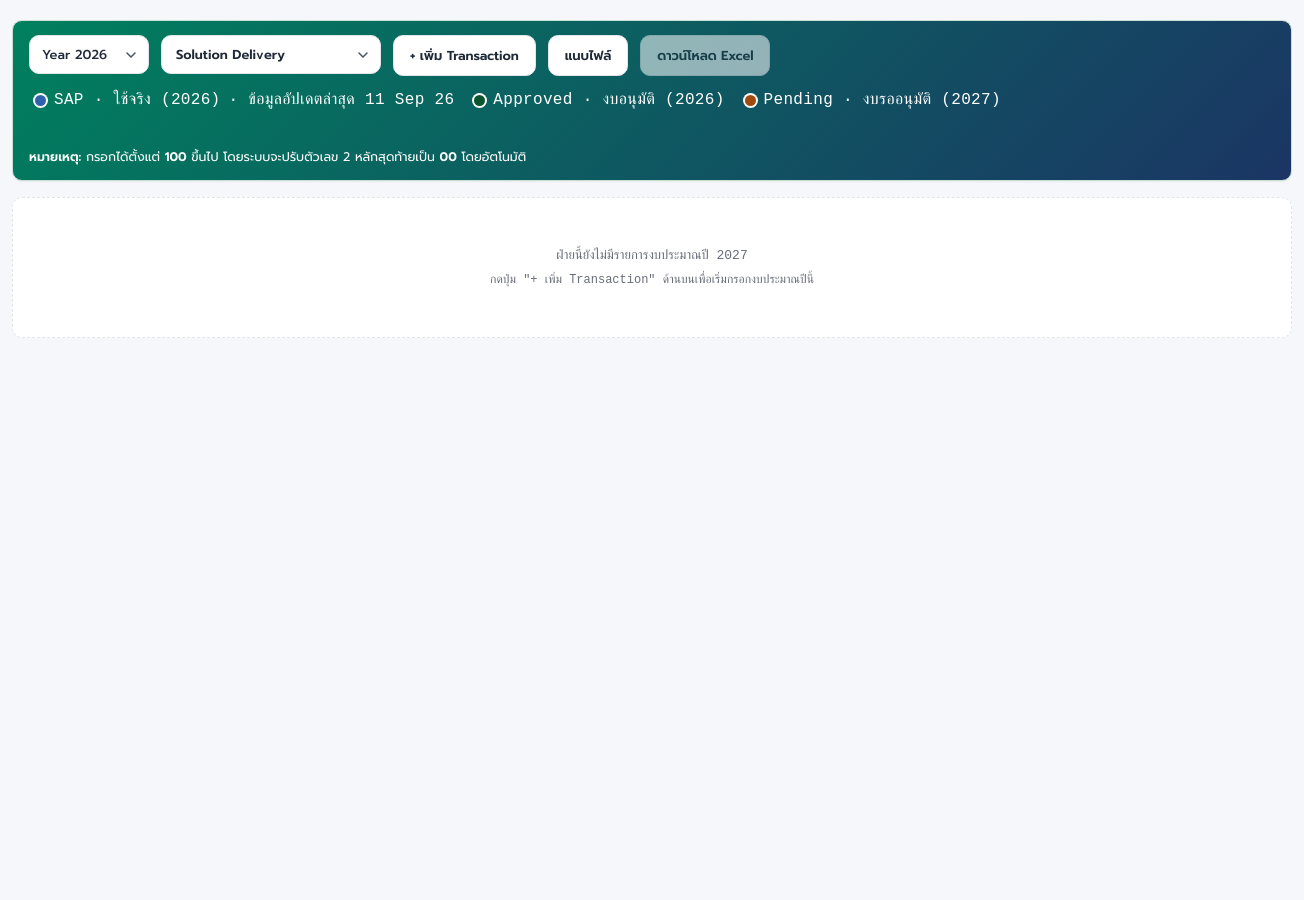
it: BudgetGrid › adds a new transaction end-to-end through the form
Expected: the text "ฝ่ายนี้ยังไม่มีรายการงบประมาณปี 2027" is shown, [556,248,748,262]
Click the button "+ เพิ่ม Transaction".
click(464, 56)  # box [393,35,536,76]
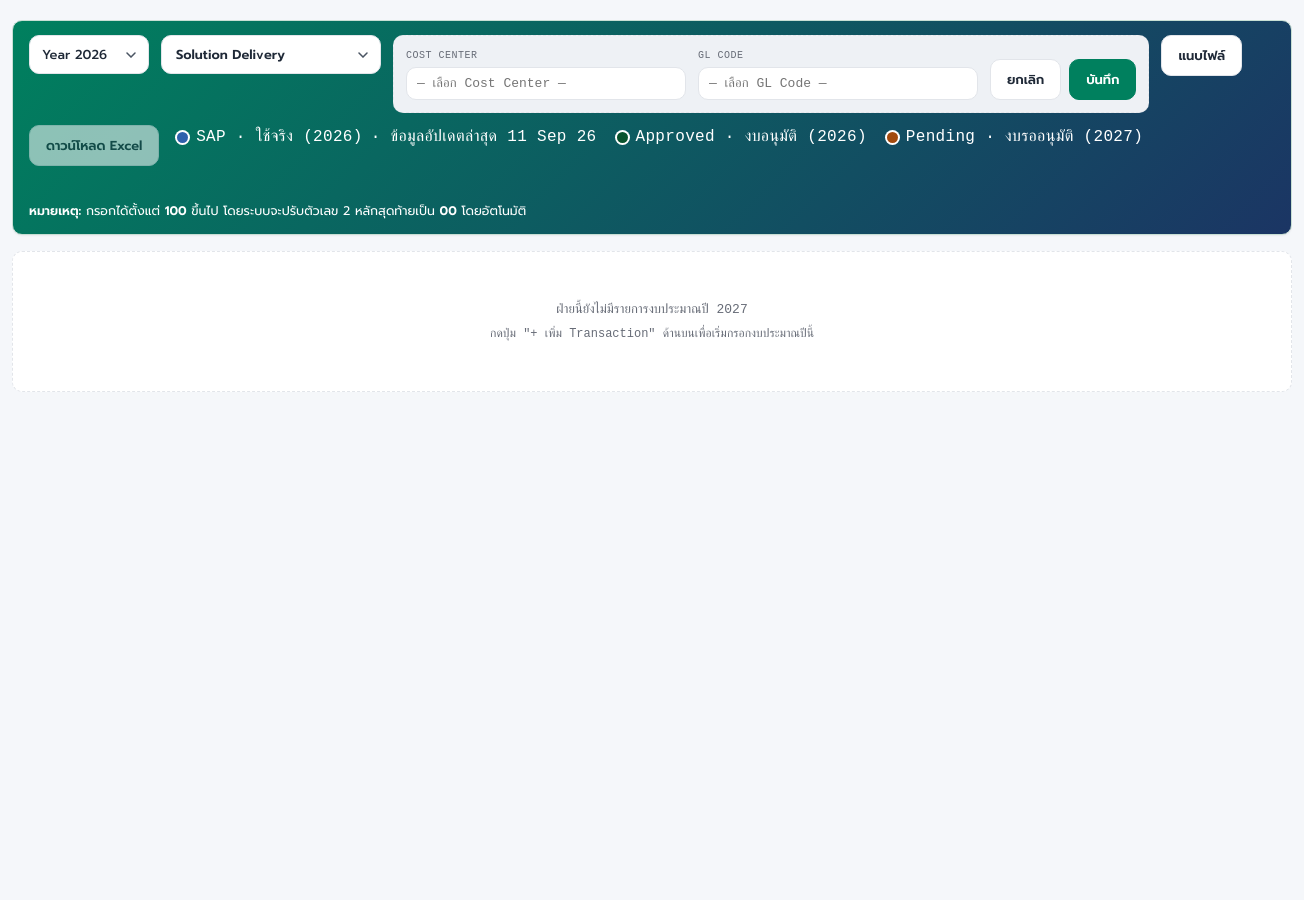
Focus the field labelled "Cost Center" at (546, 84), box [406,67,686,100]
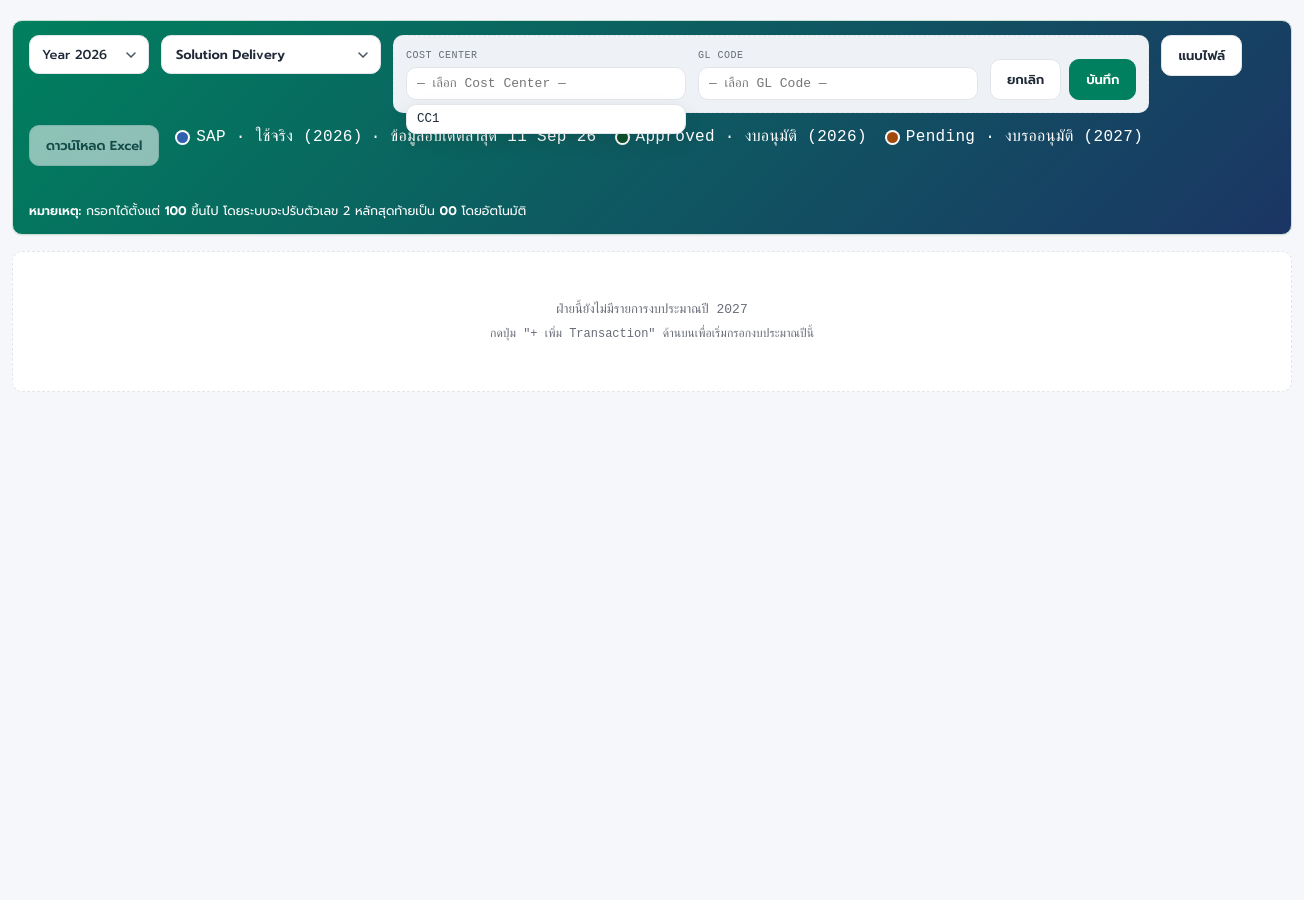
Click the option "CC1".
click(428, 119)  # box [407,105,685,133]
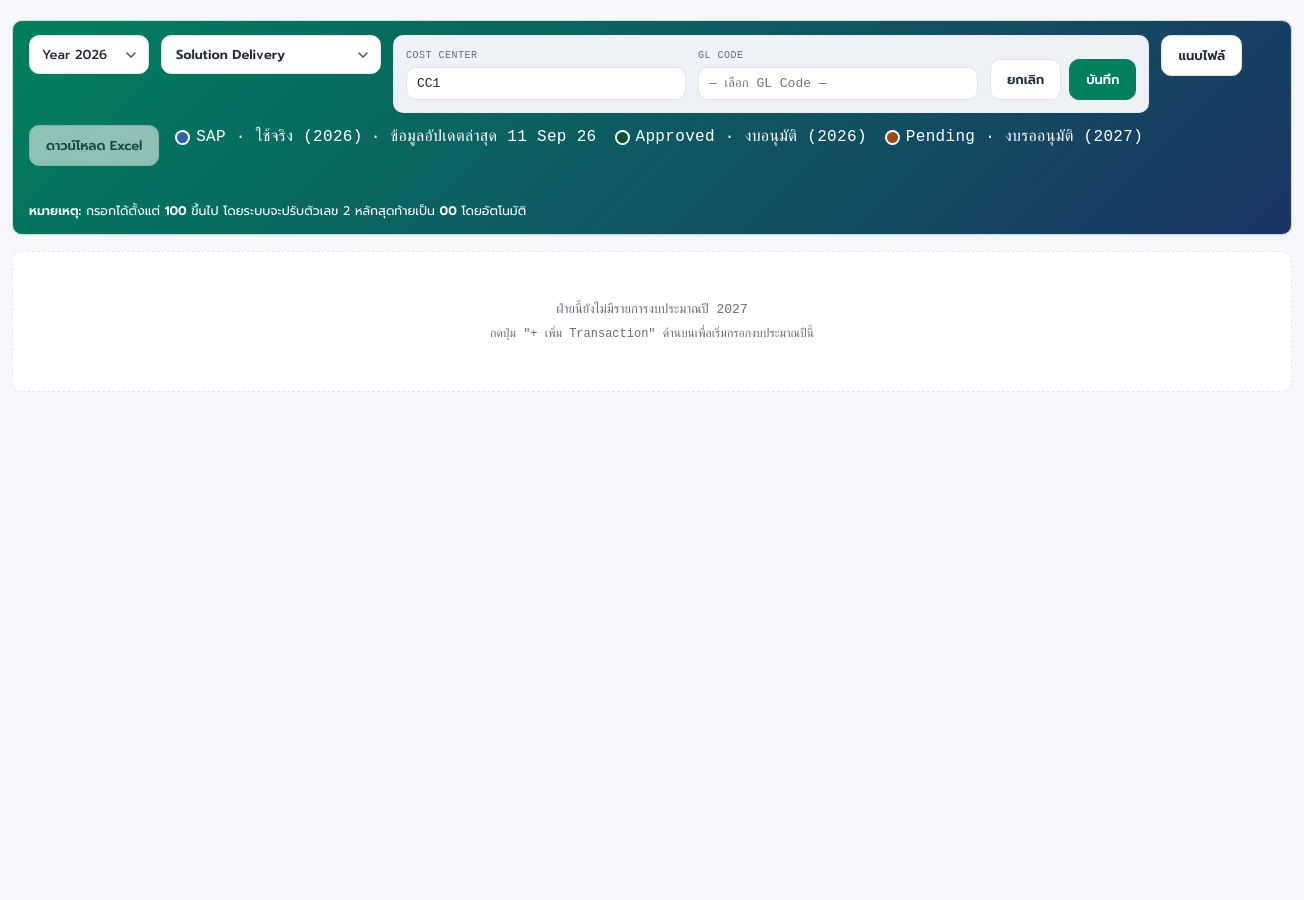
Focus the field labelled "GL Code" at (838, 84), box [698,67,978,100]
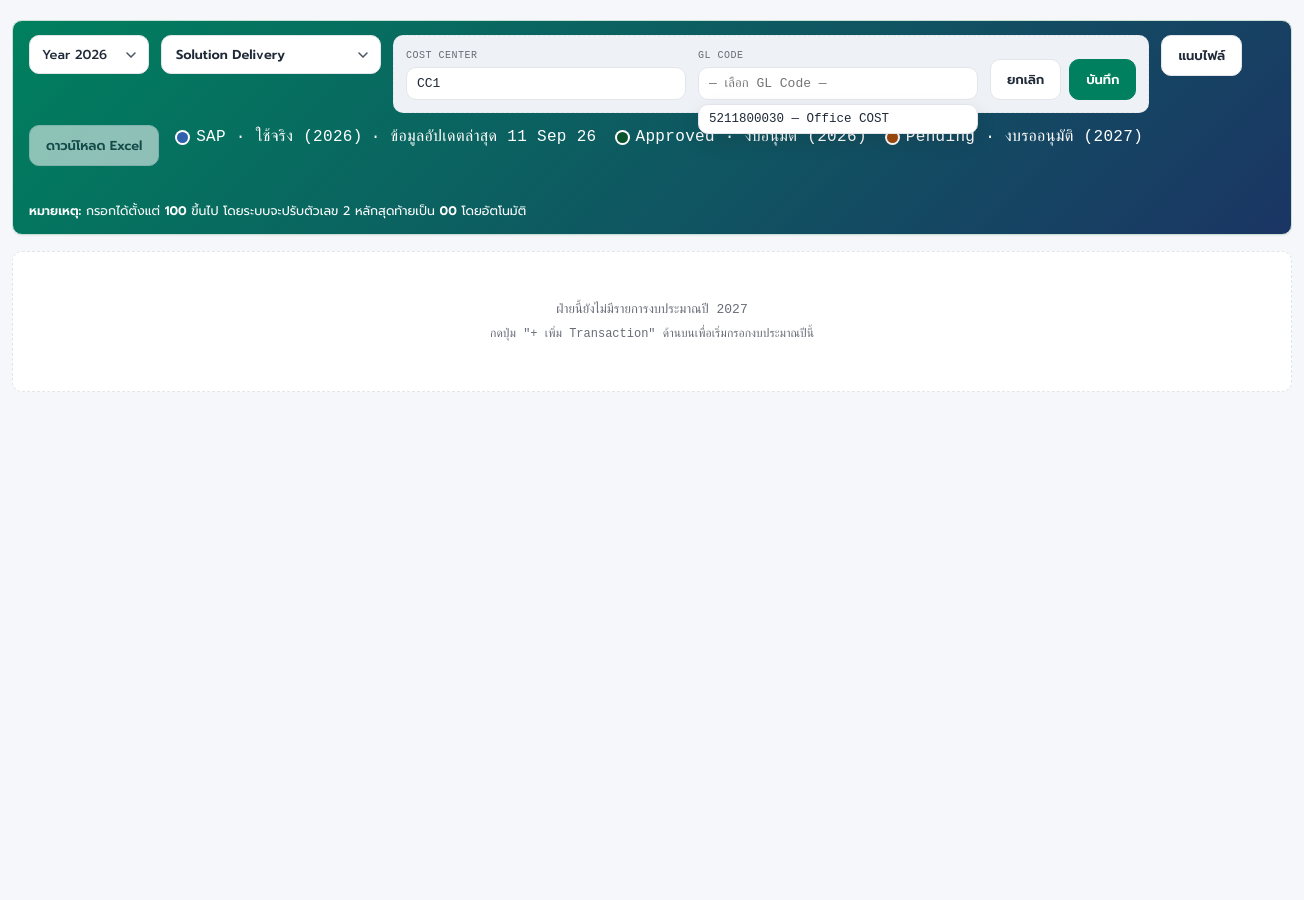
Click the option "5211800030 — Office COST".
click(838, 119)  # box [699,105,977,133]
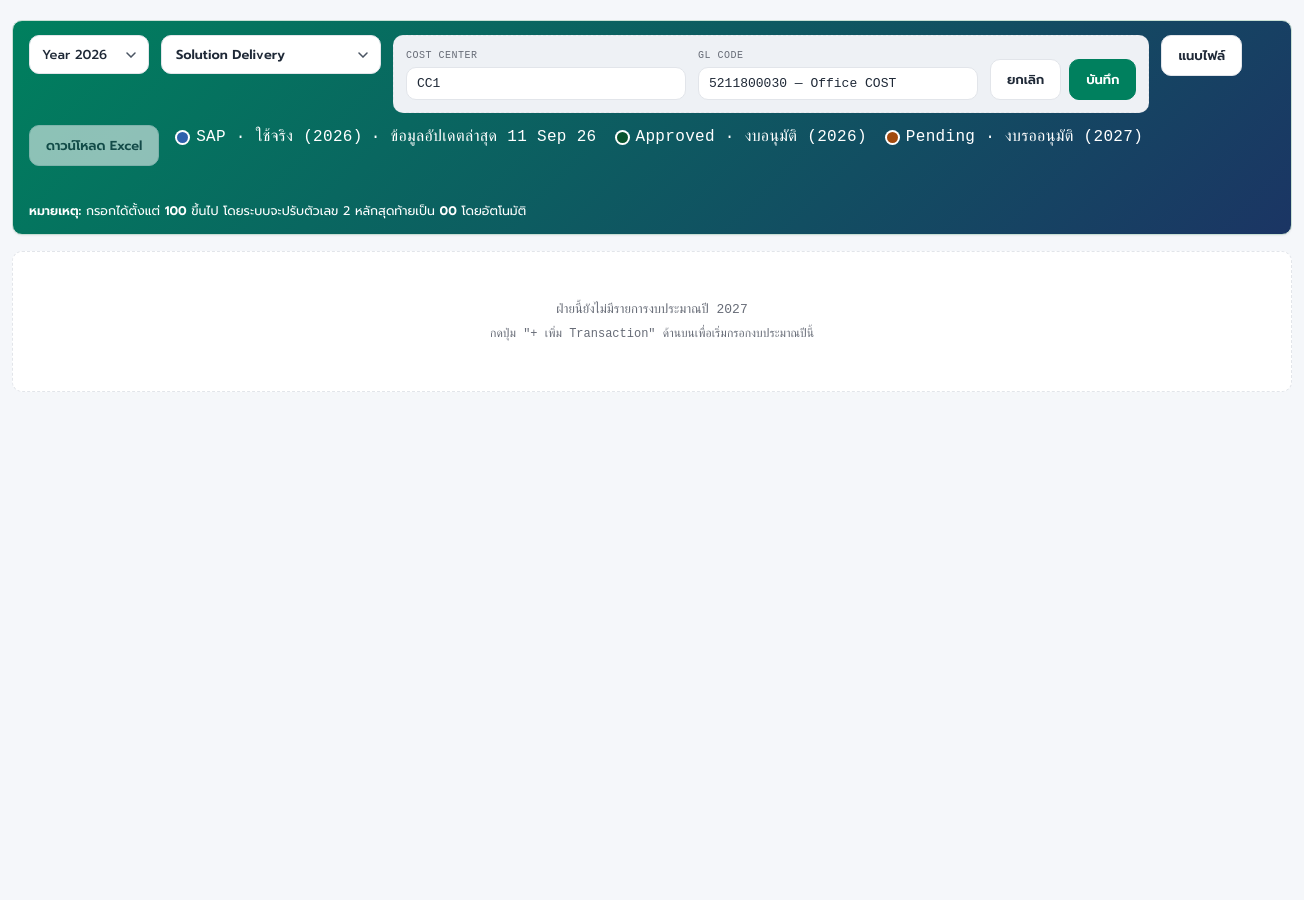
Click the button "บันทึก".
click(1103, 80)  # box [1069,59,1136,100]
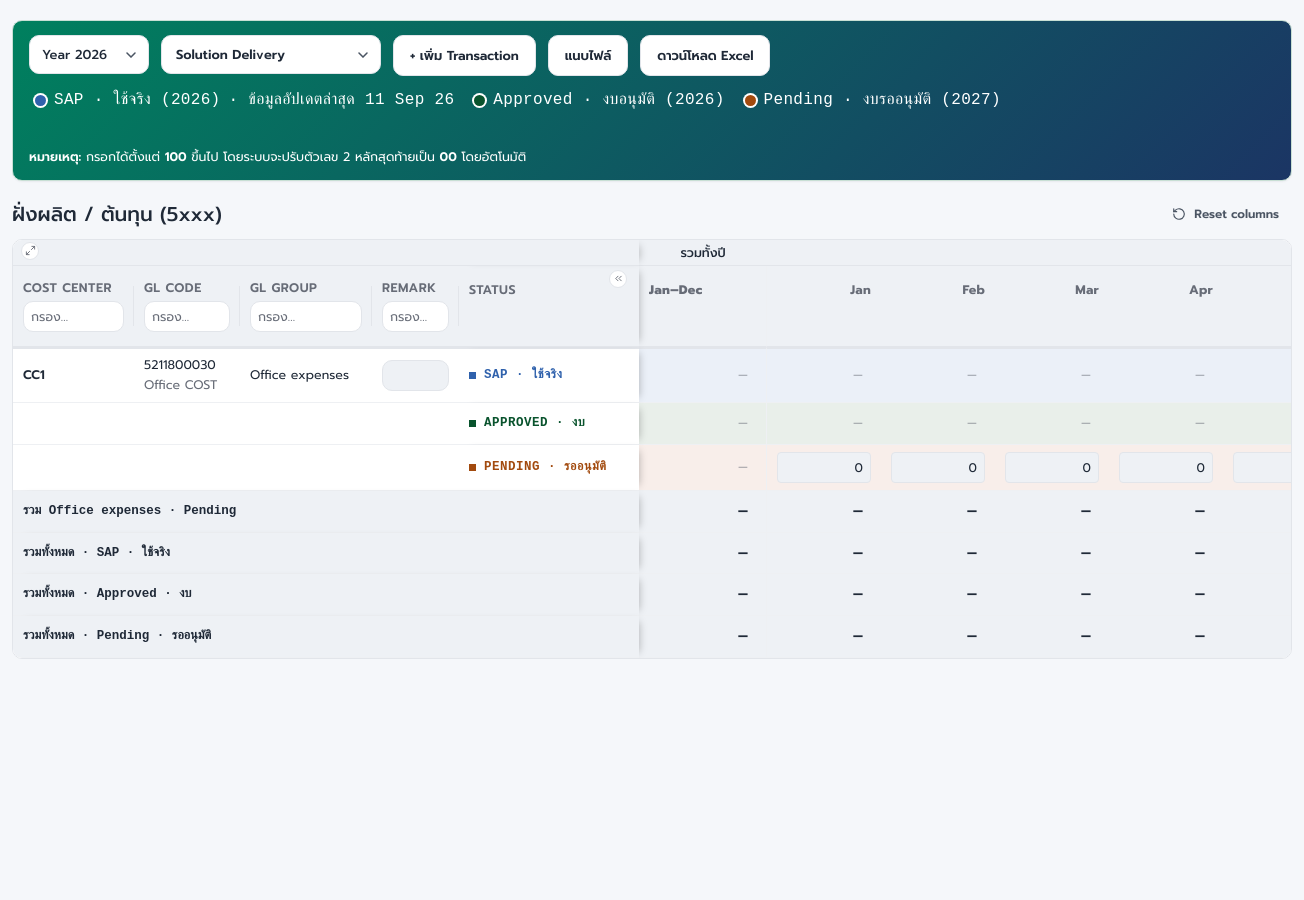
Expected: the cell with test id "pending-cell-CC1-5211800030-m01" is shown, [767,445,881,491]
